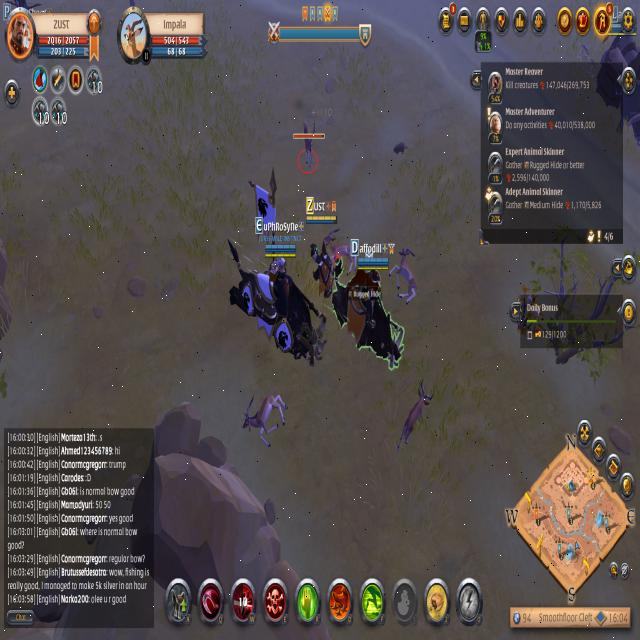deer_alive: (397, 384, 439, 452)
deer_dead: (234, 384, 292, 452), (391, 241, 427, 315)
targeting: (288, 111, 329, 178)
